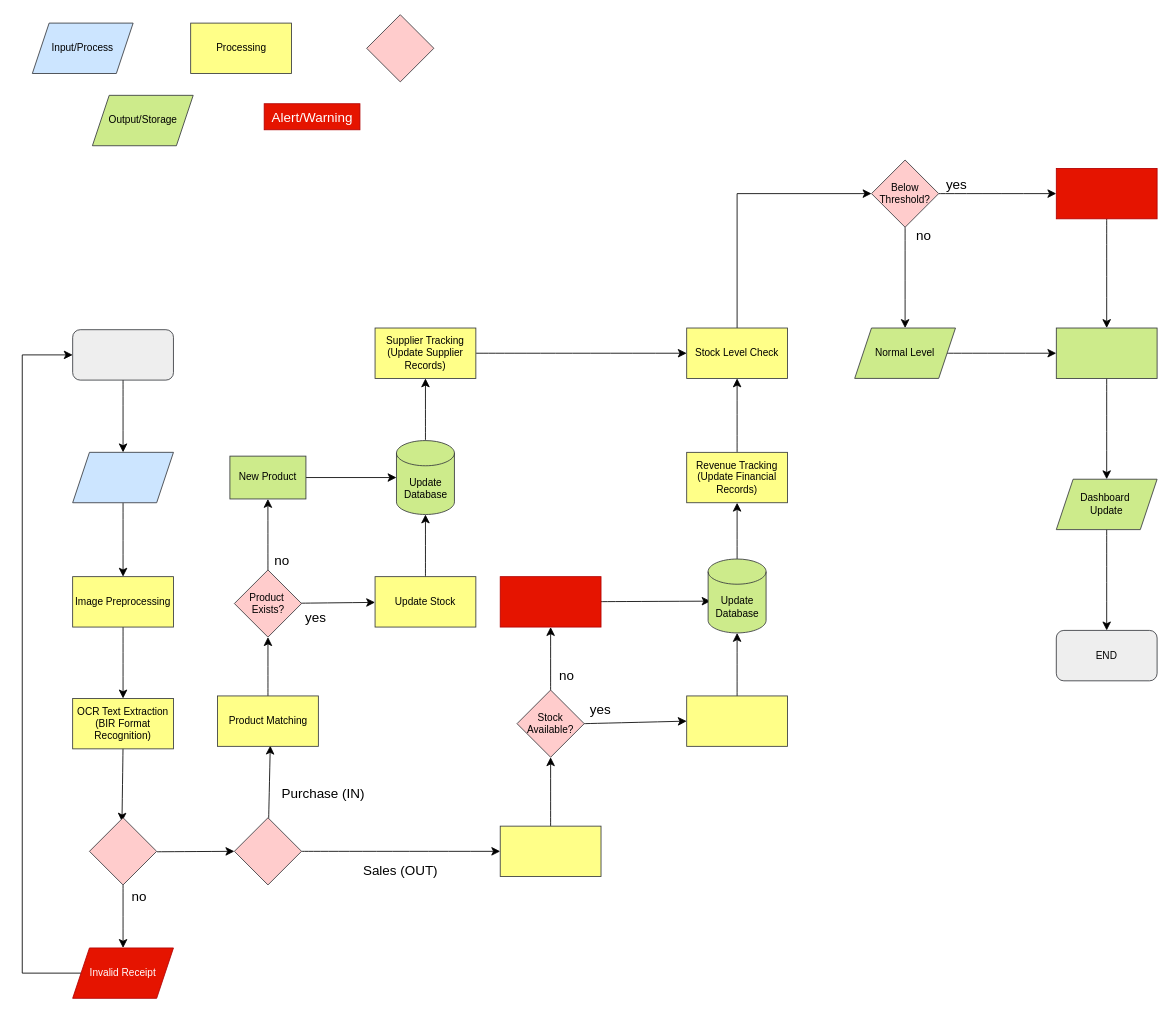
The diagram is 1172 pixels wide and 1013 high, and some of its shapes have lost their labels. Each missing label, with the centre of its shape:
Decision Point: the point at 400,48
Deduct Stock: the point at 737,720
Generate Reports (Inventory Status): the point at 1106,352
Low Stock Alert (Notify Management): the point at 1106,193
Product Verification (Check Inventory): the point at 550,851
Receipt Type?: the point at 268,851
Receipt Valid?: the point at 123,851
Scan Receipt: the point at 122,477
START: the point at 122,354
Stock Discrepancy (For Review): the point at 550,601
